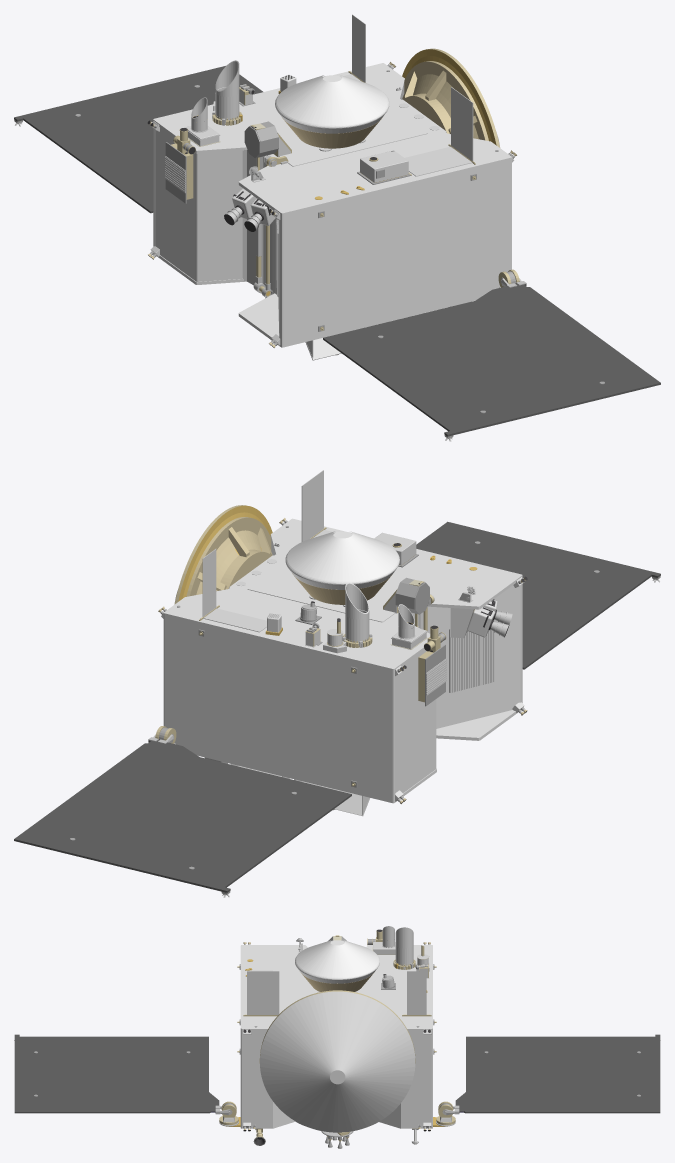
The model's file is osiris.glb.
3 renders of one model, top to bottom at view 1: azimuth 30°, elevation 25°; view 2: azimuth 150°, elevation 25°; view 3: azimuth 270°, elevation 25°, orthographic. The views are drawn at different scales.
Parts seen in each view (by area): view 1: modello; view 2: modello; view 3: modello.
Boxes of the visible parts, x1,y1,x2,y2 form: modello: (14, 14, 660, 441); modello: (14, 470, 660, 897); modello: (14, 926, 660, 1148).
Bounding box in the file's own units: 2.74 × 2.4 × 6.93.
